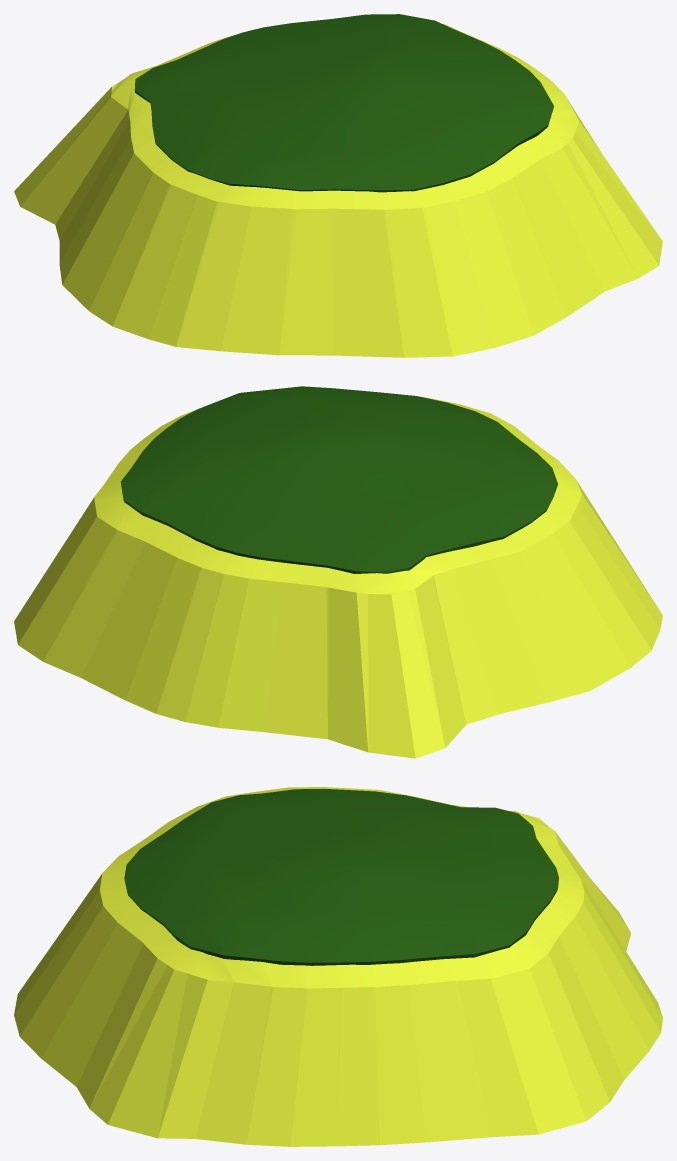
The model's file is Island 1.fbx.
3 renders of one model, top to bottom at view 1: azimuth 30°, elevation 25°; view 2: azimuth 150°, elevation 25°; view 3: azimuth 270°, elevation 25°, orthographic. The views are drawn at different scales.
Visible parts, largest first — view 1: Surface001, Surface002; view 2: Surface001, Surface002; view 3: Surface001, Surface002.
Boxes of the visible parts, <box> form: Surface001: <box>14,24,662,357</box>; Surface002: <box>134,14,553,192</box>; Surface001: <box>14,396,662,758</box>; Surface002: <box>121,386,557,573</box>; Surface001: <box>14,787,662,1146</box>; Surface002: <box>124,789,558,965</box>.
Bounding box in the file's own units: 143 × 41.6 × 143.
